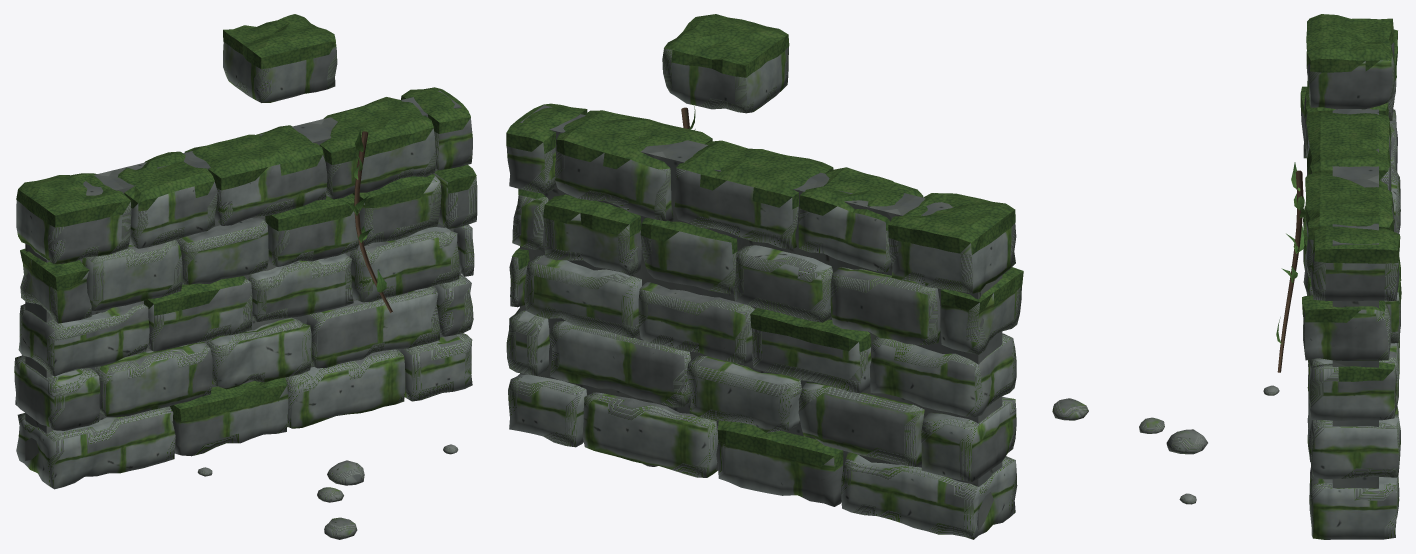
File: mossed_ruin_wall.glb
3 renders of one model, left to right at view 1: azimuth 30°, elevation 25°; view 2: azimuth 150°, elevation 25°; view 3: azimuth 270°, elevation 25°, orthographic. The views are drawn at different scales.
Visible parts, largest first — view 1: mossed_ruin_wall__stone_wall, mossed_ruin_wall__moss, mossed_ruin_wall__stone_dark, mossed_ruin_wall__stone_block, mossed_ruin_wall__root, mossed_ruin_wall__leaf; view 2: mossed_ruin_wall__stone_wall, mossed_ruin_wall__moss, mossed_ruin_wall__stone_dark; view 3: mossed_ruin_wall__stone_wall, mossed_ruin_wall__moss, mossed_ruin_wall__stone_dark, mossed_ruin_wall__stone_block, mossed_ruin_wall__root, mossed_ruin_wall__leaf.
Part boxes in pixels (x1,y1,x2,y2): mossed_ruin_wall__stone_wall: [14, 42, 477, 489]; mossed_ruin_wall__moss: [16, 14, 476, 421]; mossed_ruin_wall__stone_dark: [25, 90, 461, 460]; mossed_ruin_wall__stone_block: [197, 444, 458, 539]; mossed_ruin_wall__root: [354, 131, 392, 312]; mossed_ruin_wall__leaf: [340, 129, 386, 292]; mossed_ruin_wall__stone_wall: [506, 47, 1021, 539]; mossed_ruin_wall__moss: [506, 14, 1023, 468]; mossed_ruin_wall__stone_dark: [520, 105, 1002, 531]; mossed_ruin_wall__stone_wall: [1301, 42, 1400, 539]; mossed_ruin_wall__moss: [1300, 14, 1401, 384]; mossed_ruin_wall__stone_dark: [1332, 108, 1378, 488]; mossed_ruin_wall__stone_block: [1052, 385, 1279, 504]; mossed_ruin_wall__root: [1277, 170, 1303, 372]; mossed_ruin_wall__leaf: [1276, 162, 1305, 343].
Bounding box in the file's own units: 4.01 × 3.51 × 2.65.
6 materials, 6 textured.
